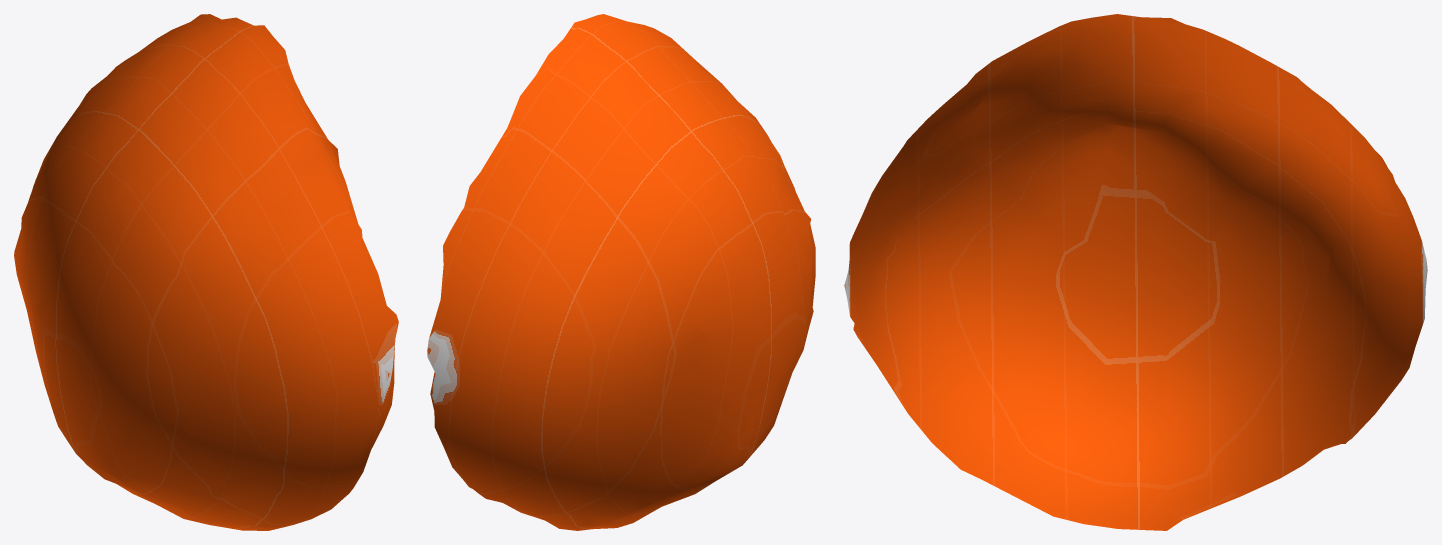
The picture shows the model from 3 angles, left to right: view 1: azimuth 30°, elevation 25°; view 2: azimuth 150°, elevation 25°; view 3: azimuth 270°, elevation 25°; orthographic projection. The views are drawn at different scales.
Parts seen in each view (by area): view 1: Renderer Node; view 2: Renderer Node; view 3: Renderer Node.
Part boxes in pixels (bbox=[...]): Renderer Node: bbox=[14, 14, 398, 530]; Renderer Node: bbox=[427, 14, 815, 530]; Renderer Node: bbox=[844, 14, 1427, 530].
Bounding box in the file's own units: 0.2922 × 0.6178 × 0.6309.
Materials: 1 (1 with a texture image).
